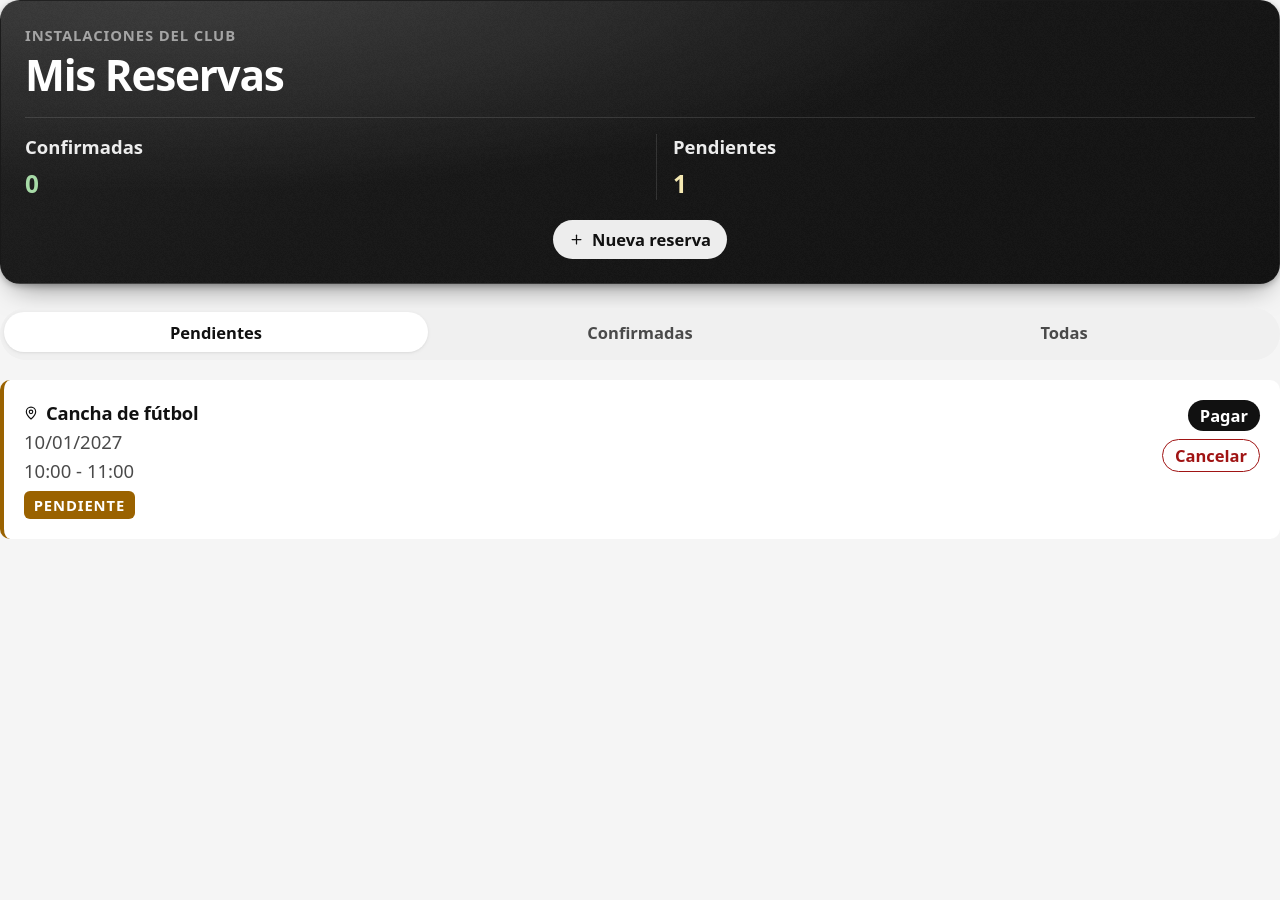
it: ReservasPage › el filtro "Todas" no vuelve a pedir el historial si ya se cargó
The image size is (1280, 900).
expect the text "Cancha de fútbol" is shown: met, box [24, 400, 198, 425]
Click the radio button labelled "Todas": [1064, 332] box [852, 312, 1276, 352]
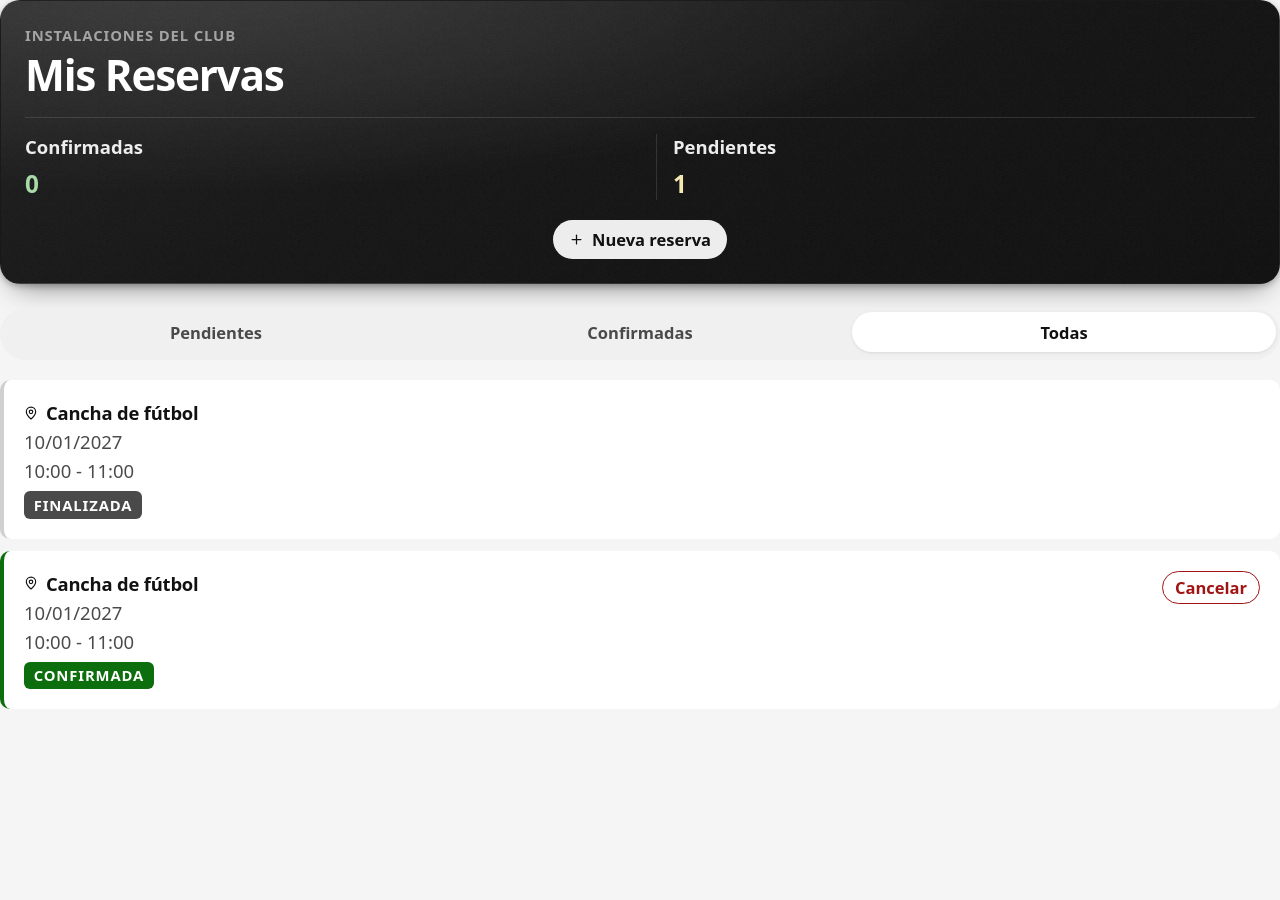
Click the radio button labelled "Pendientes": [216, 332] box [4, 312, 428, 352]
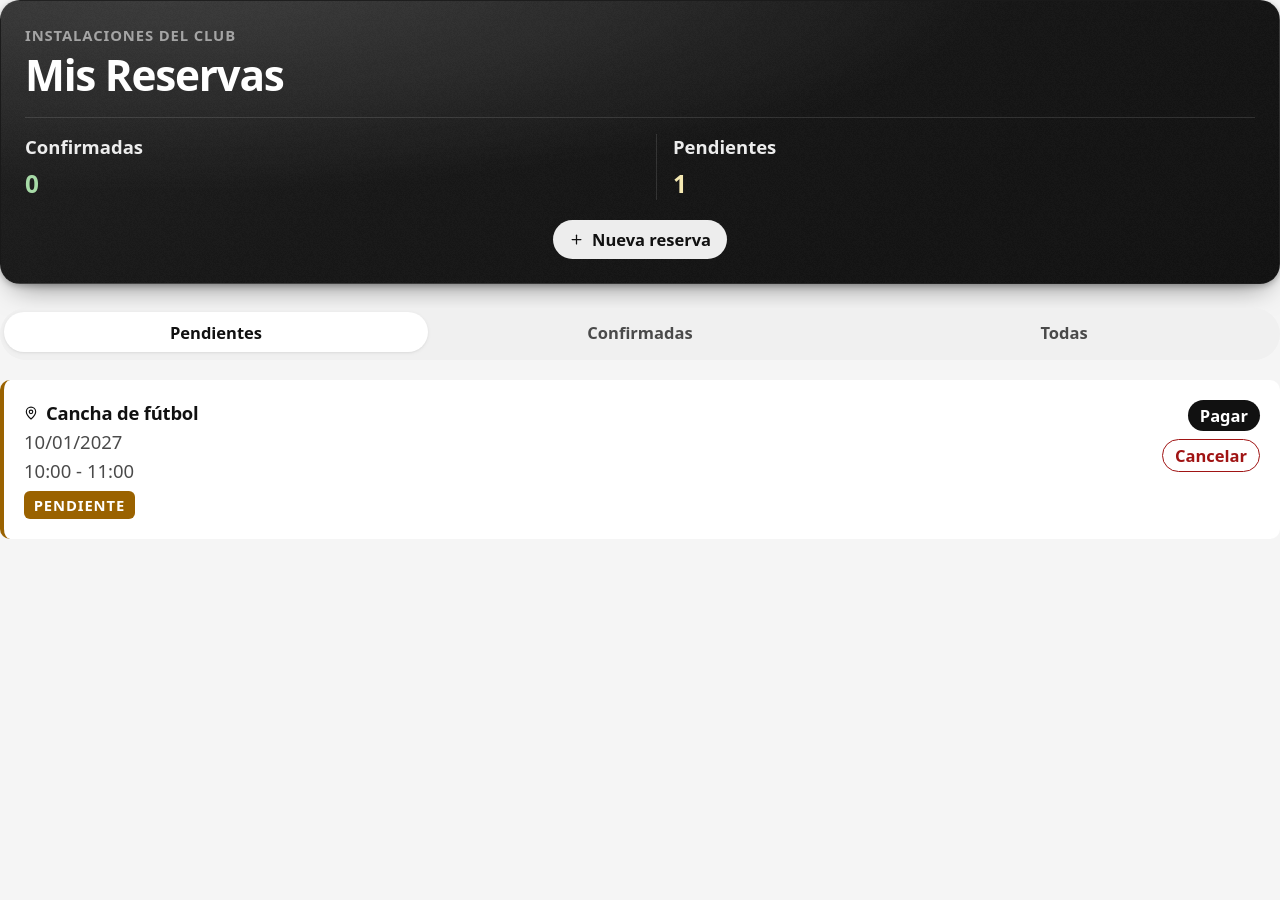
Click the radio button labelled "Todas": [1064, 332] box [852, 312, 1276, 352]
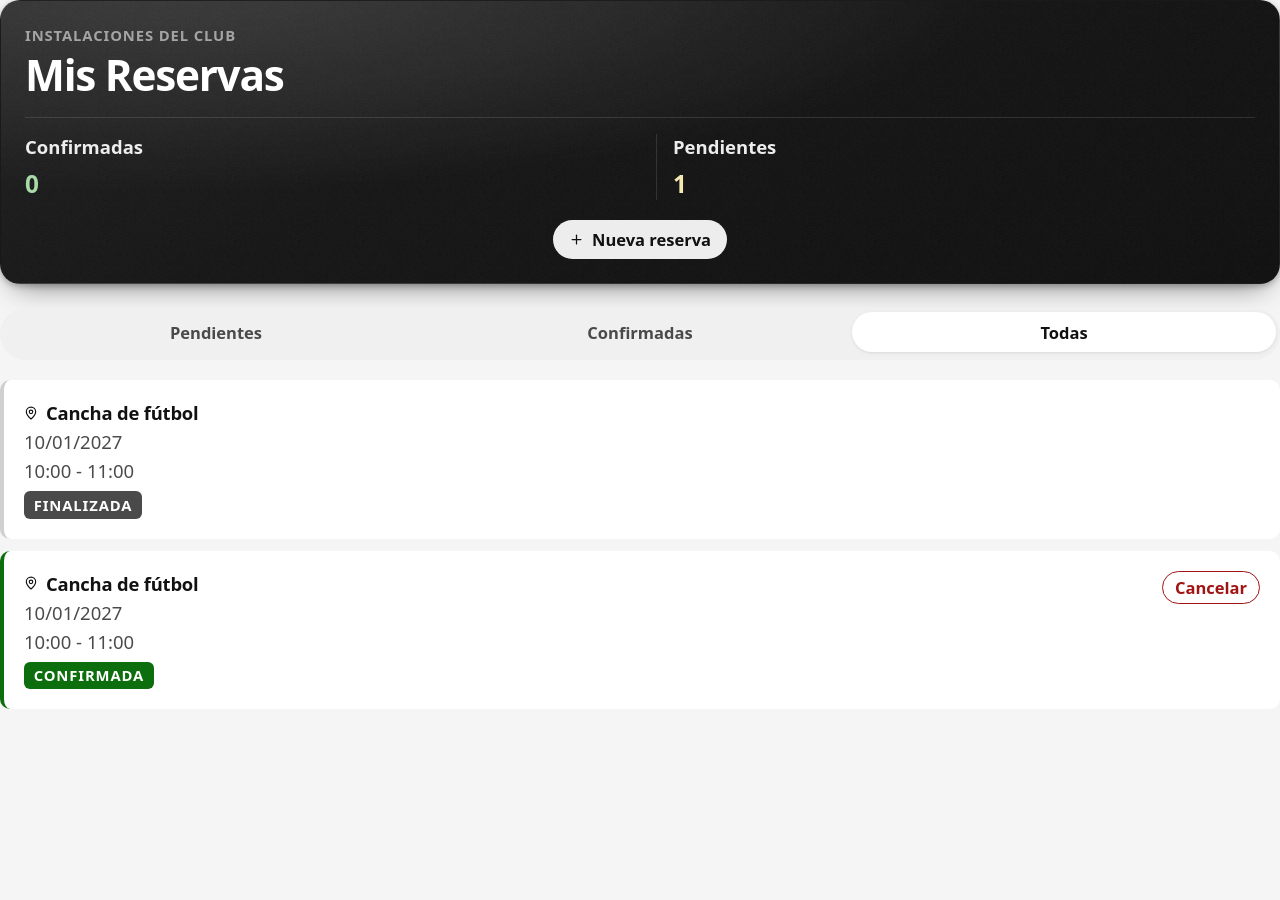
expect the text "Cancha de fútbol" is shown 2 times: met, box [24, 400, 198, 425]; [24, 571, 198, 596]
